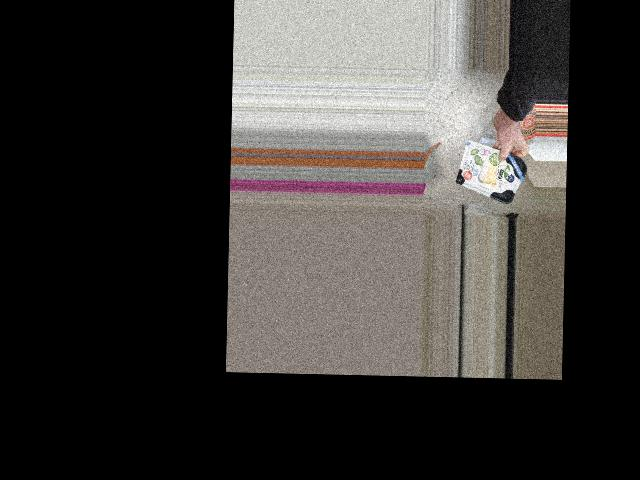cheese: (456, 146, 524, 194)
